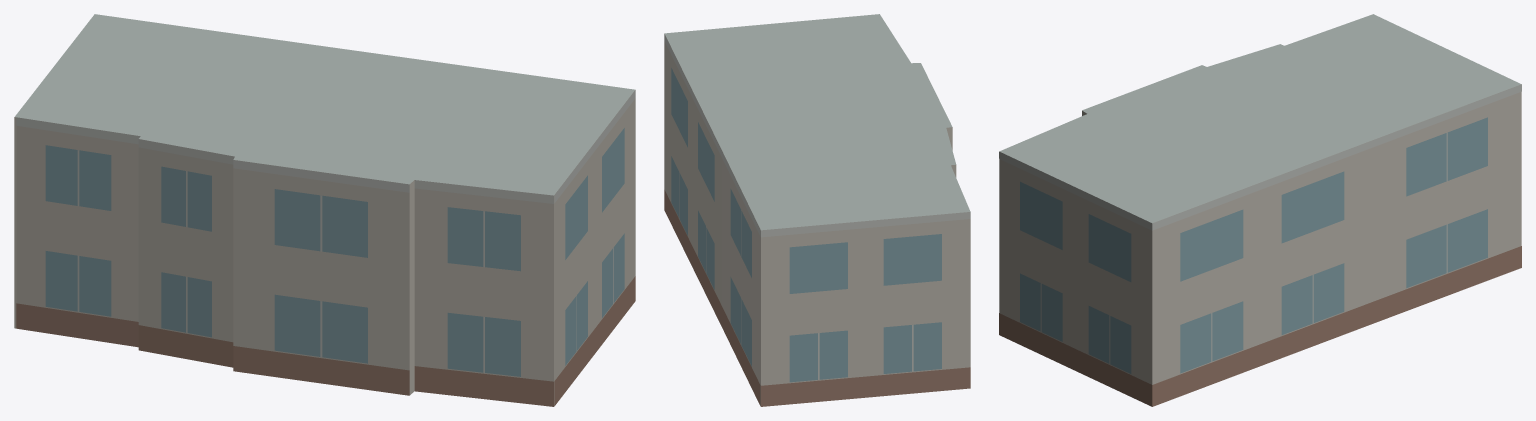
File: survey-upis-32625503.glb
3 renders of one model, left to right at view 1: azimuth 30°, elevation 25°; view 2: azimuth 150°, elevation 25°; view 3: azimuth 270°, elevation 25°, orthographic. The views are drawn at different scales.
Visible parts, largest first — view 1: survey-upis-32625503.tmp; view 2: survey-upis-32625503.tmp; view 3: survey-upis-32625503.tmp.
Boxes of the visible parts, <box> form: survey-upis-32625503.tmp: <box>14,14,635,406</box>; survey-upis-32625503.tmp: <box>664,14,970,406</box>; survey-upis-32625503.tmp: <box>999,14,1521,406</box>.
Bounding box in the file's own units: 14.93 × 6.1 × 15.75.
